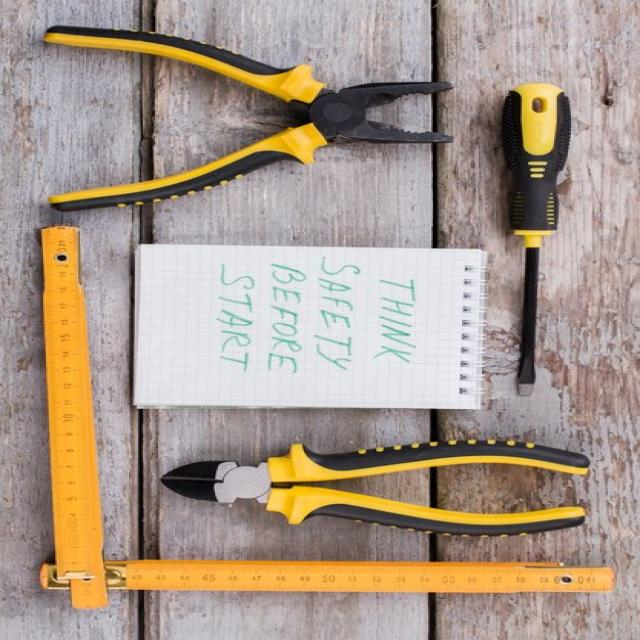Screwdriver: (501, 82, 570, 394)
